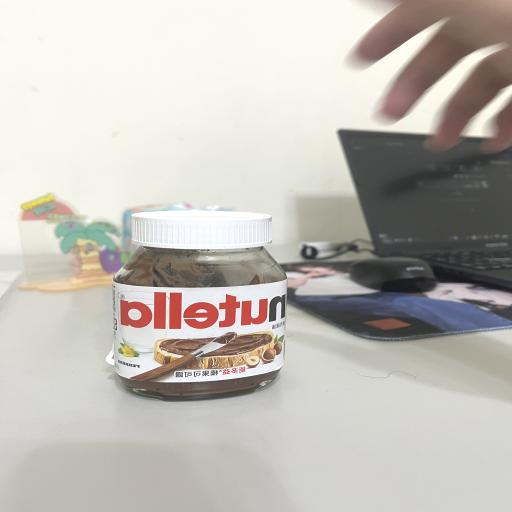chocolate_jar: (109, 211, 287, 401)
